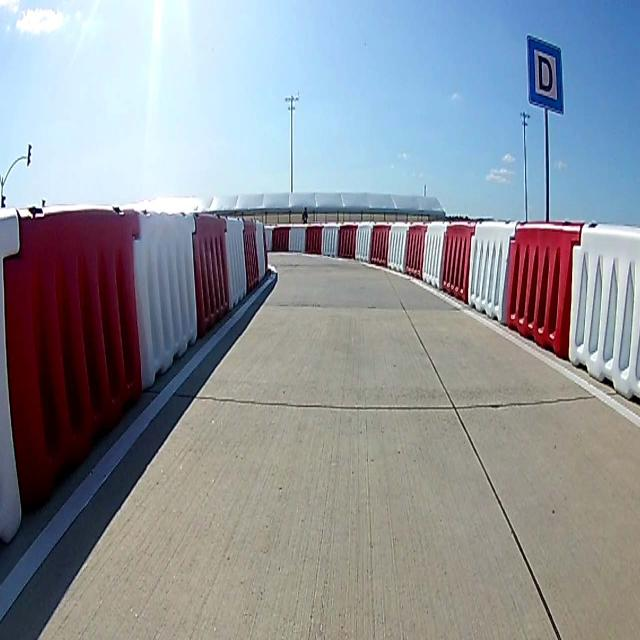durak: (527, 34, 563, 114)
